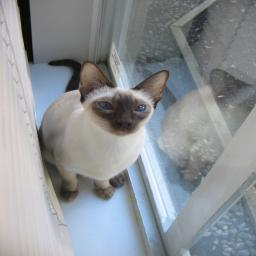catnose: (116, 116, 134, 128)
